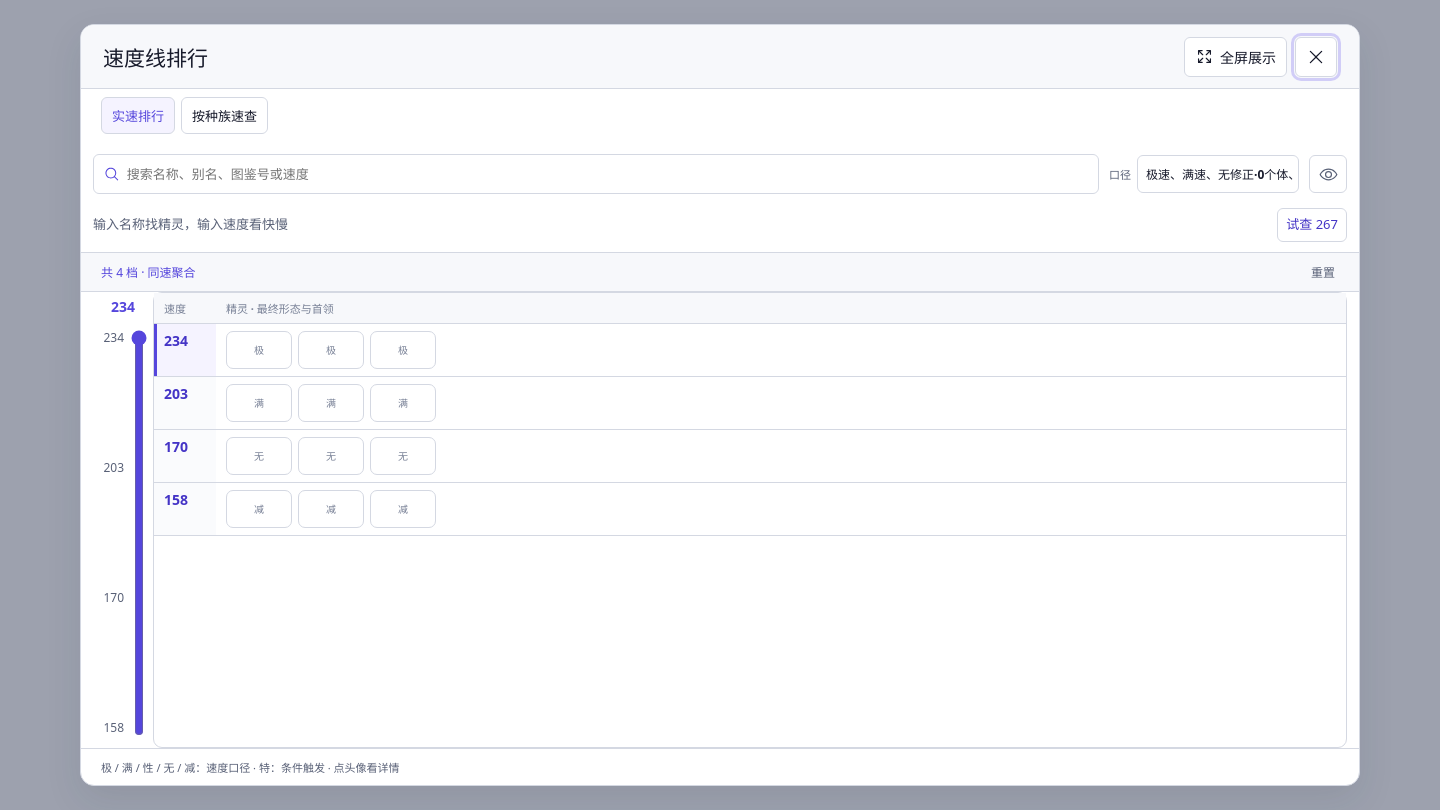
Test: 数字基准、种族速度和去字模式保留可点击详情
Click the button "试查 267": (1312, 225) [1277, 208, 1347, 242]
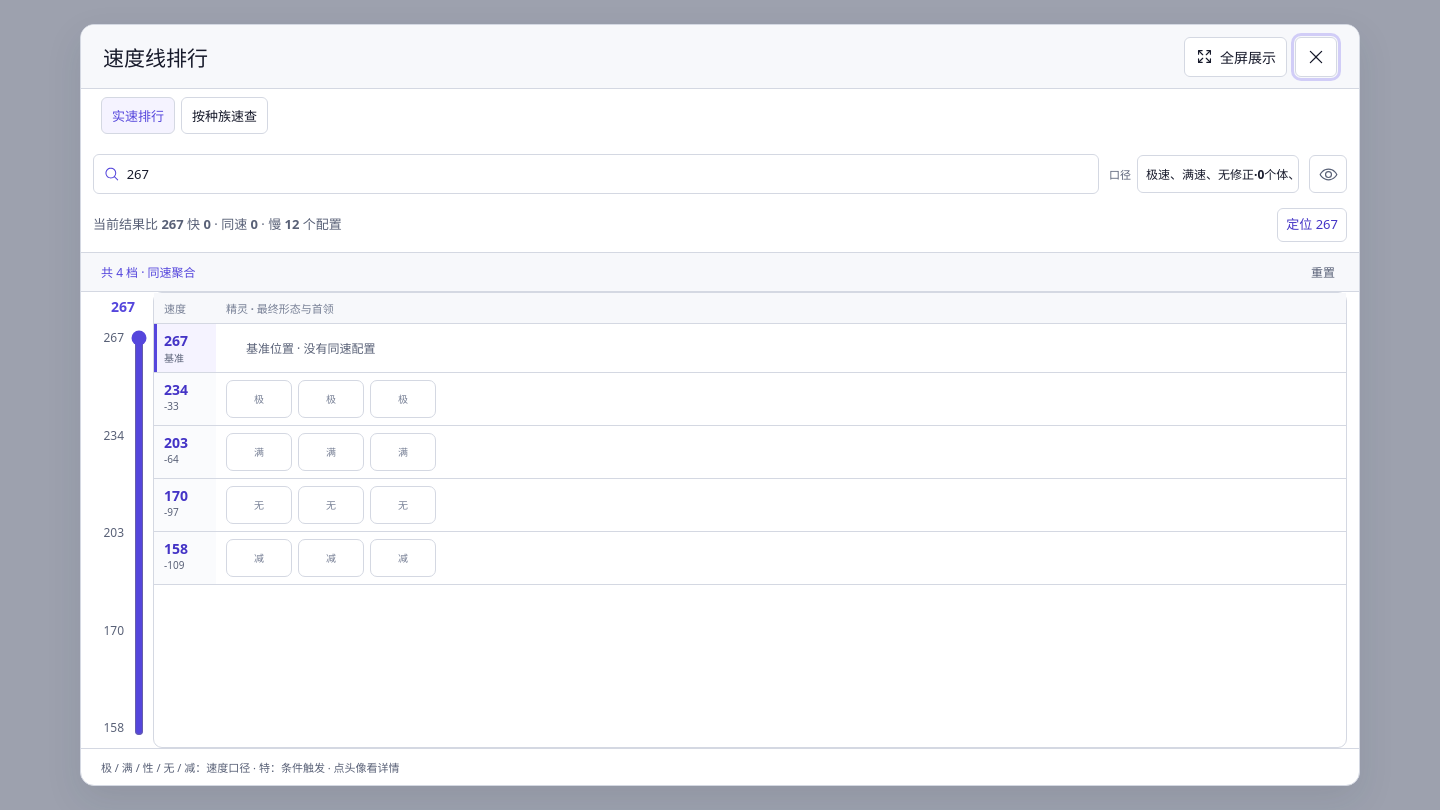
Result: the message shows "比 267 快 0 · 同速 0 · 慢 12 个配置" at [93, 206, 1347, 244]
Result: the text "基准位置 · 没有同速配置" is shown at [246, 339, 376, 357]
Replace the text in the field named "搜索速度榜精灵" with "100": (607, 174) [127, 156, 1088, 192]
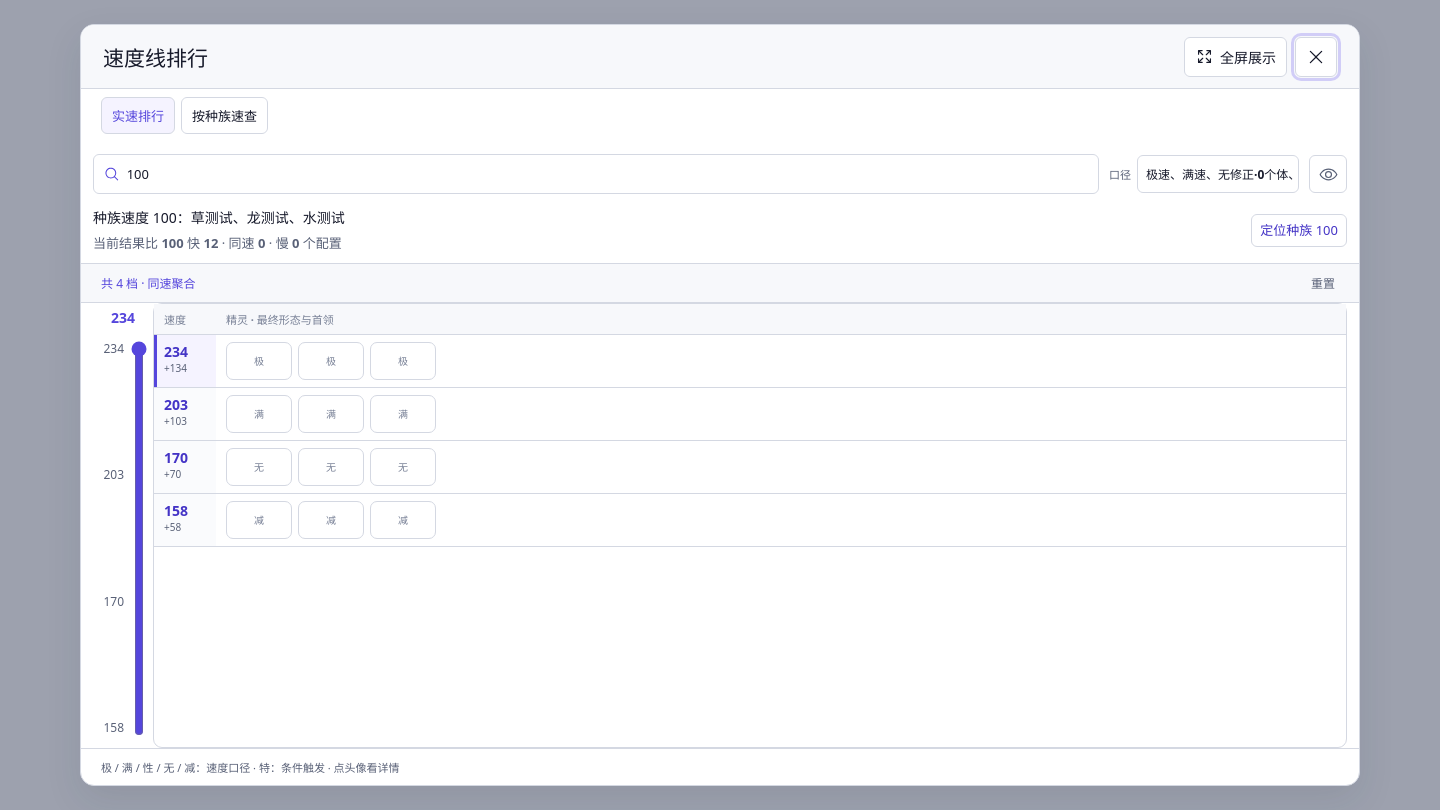
Click the button named "在速度表选择水测试": (403, 360) [370, 342, 436, 380]
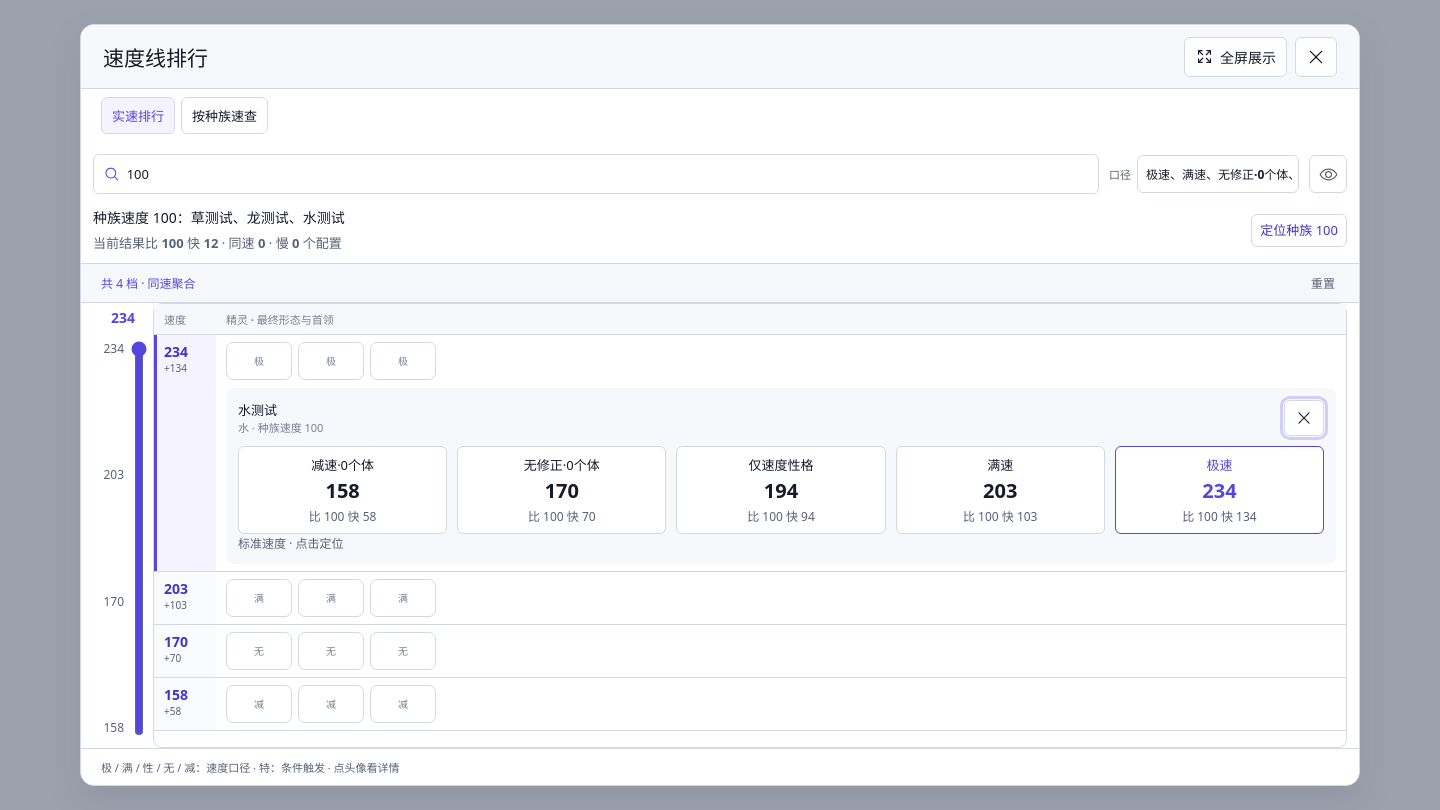
Result: the element named "速度配置详情" is shown at [226, 388, 1336, 564]
